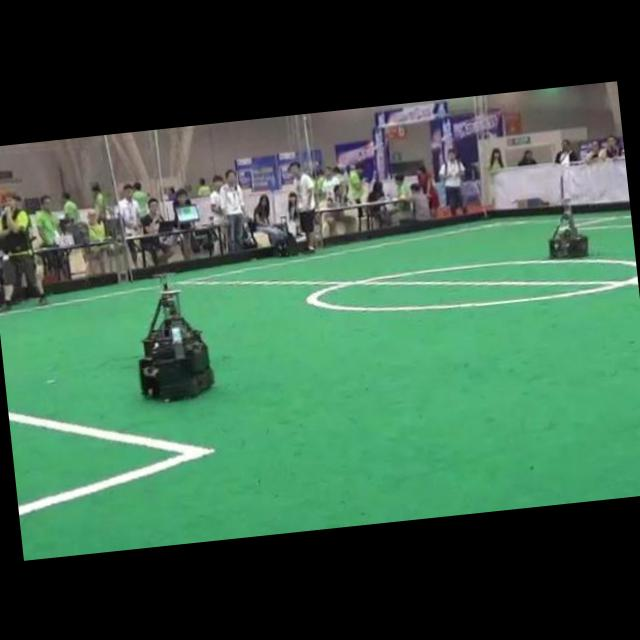robot: (138, 289, 212, 399), (548, 202, 588, 256)
